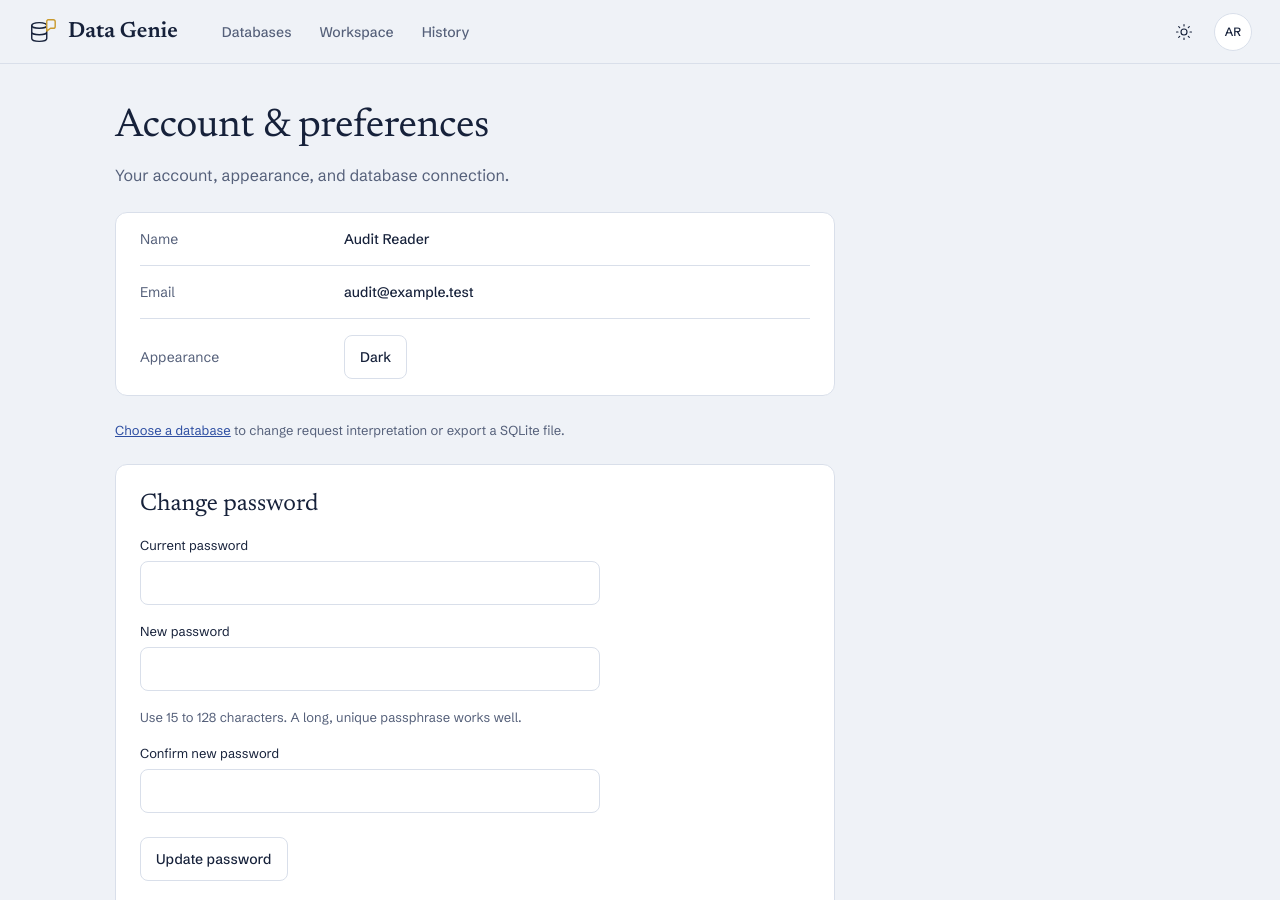
Test: restores keyboard focus after dismissing the account menu
The width and height of the screenshot is (1280, 900).
Step 1. Click the button with aria-label "Open user menu" → (1233, 32), box [1214,12,1252,50]
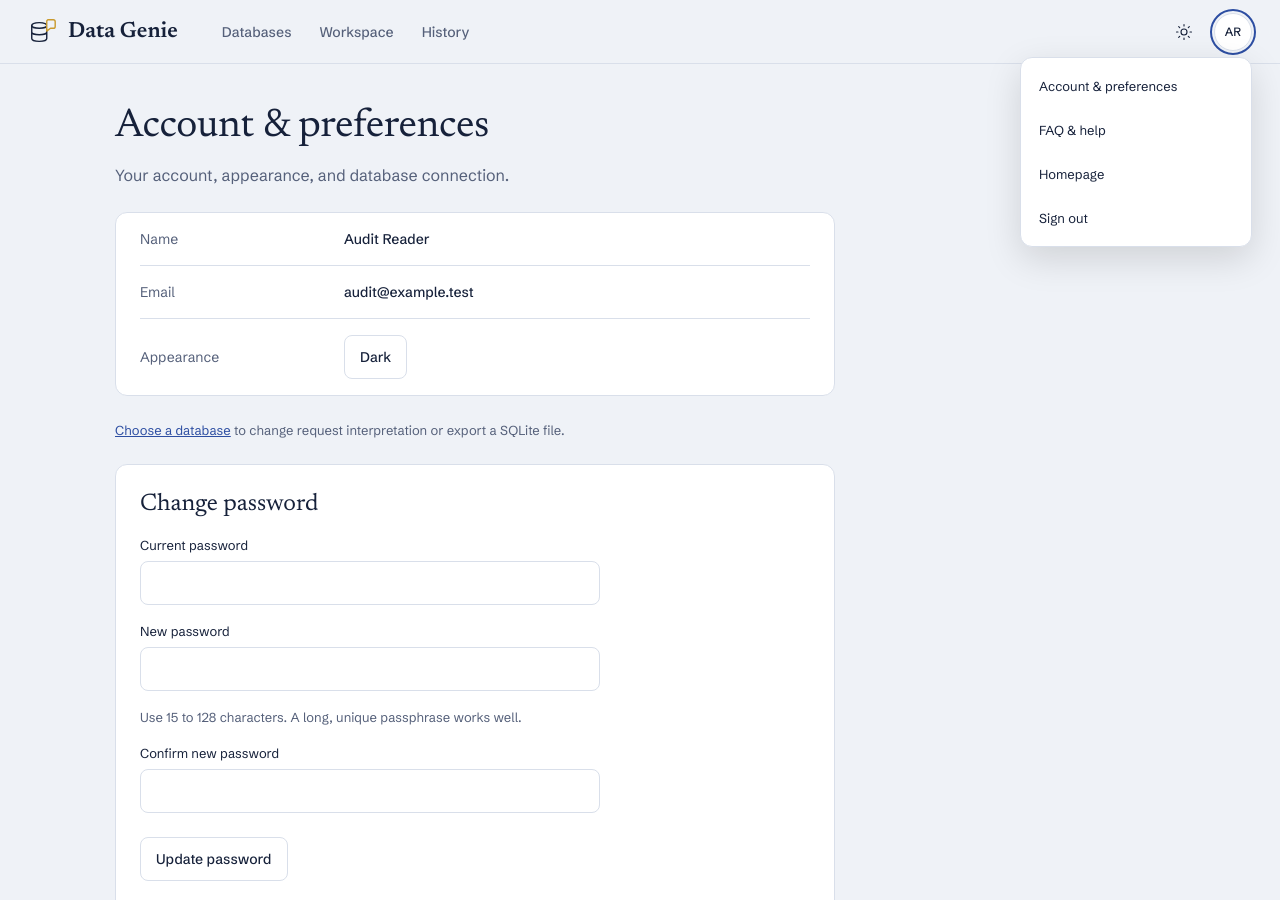
Step 2. Press Tab
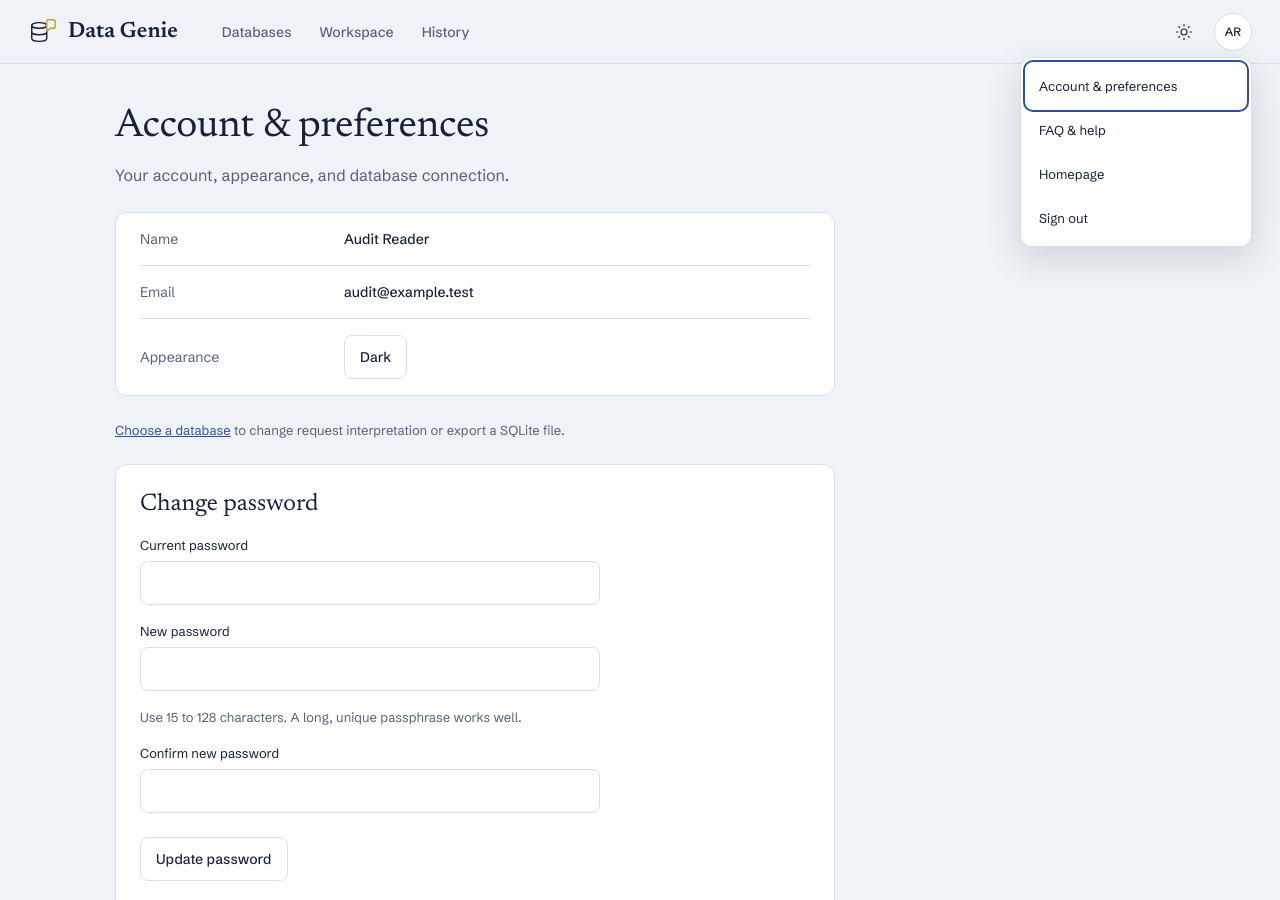
Result: the button "Account & preferences" is shown at [1027,64,1245,108]
Step 3. Press Escape
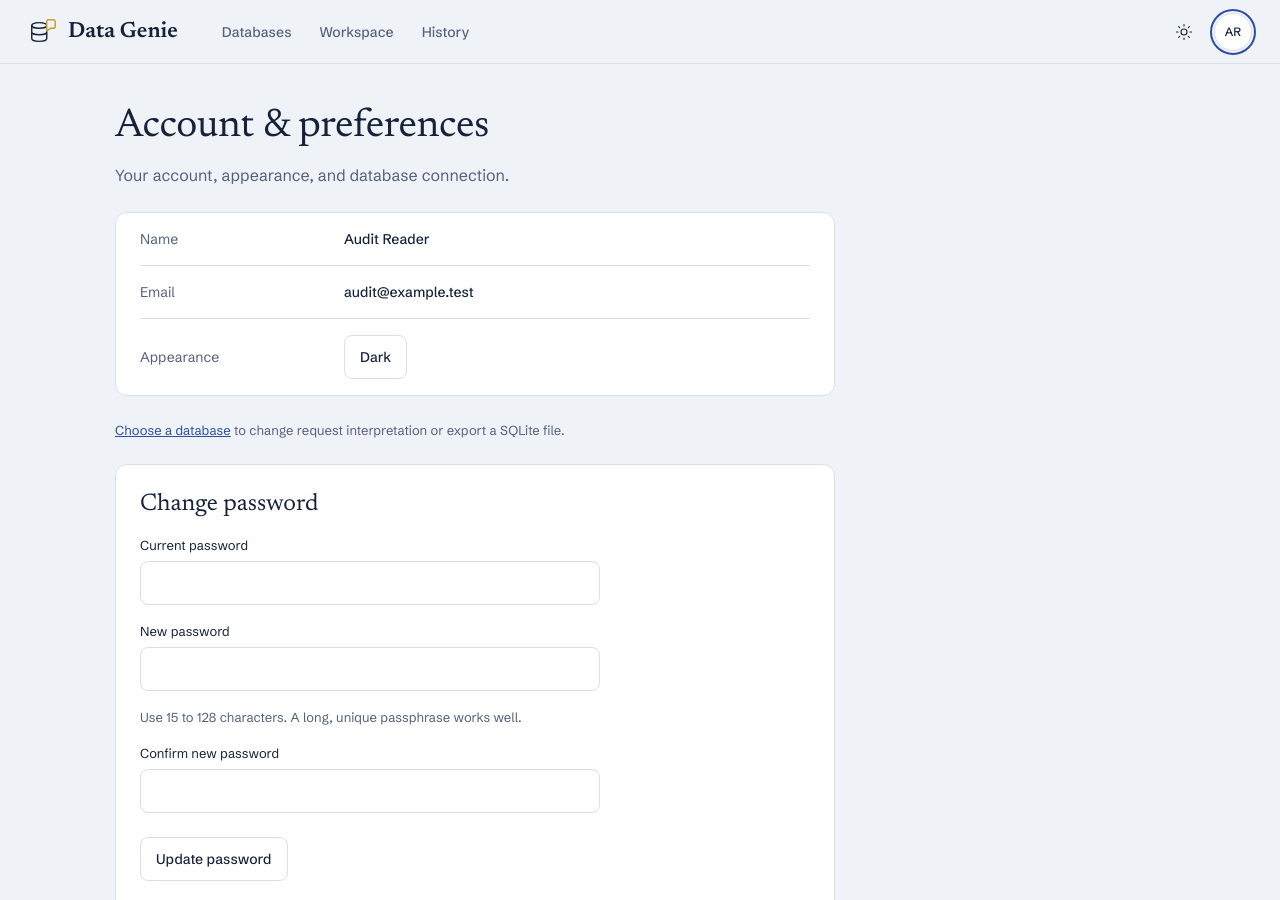
Result: the button with aria-label "Open user menu" is collapsed at [1214,12,1252,50]
